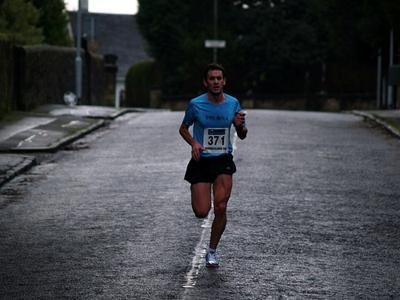person: (178, 63, 249, 268)
